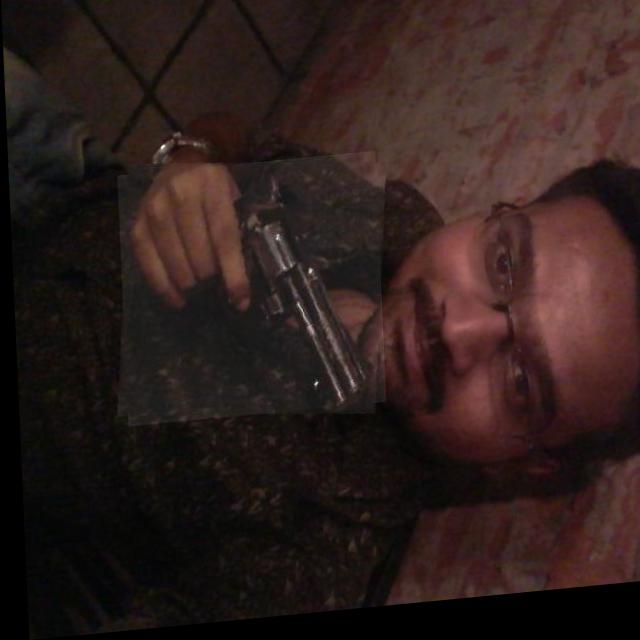handgun: (109, 152, 386, 435)
